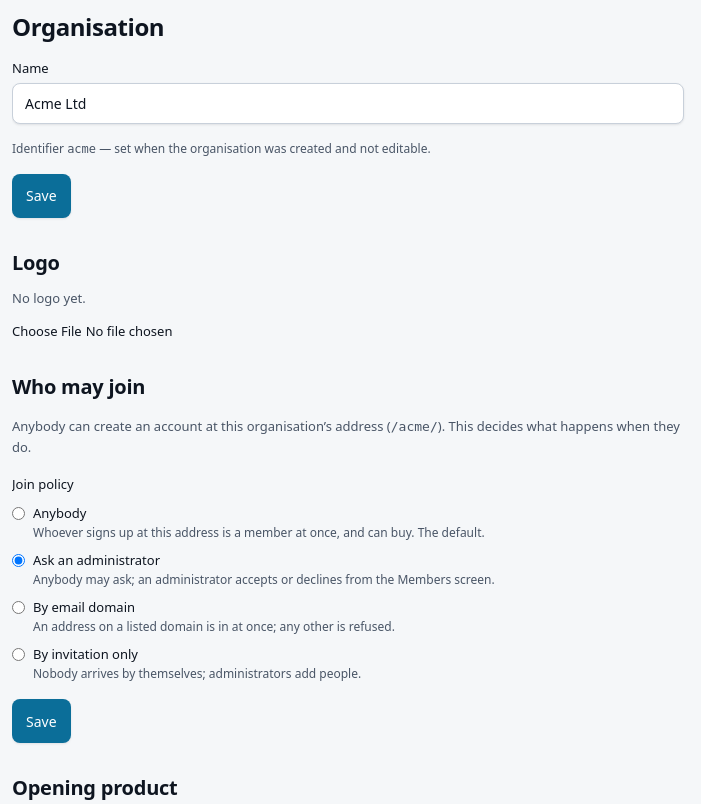
Test: who may join › shows the policy in force, with the domains only under DOMAIN
The width and height of the screenshot is (701, 804).
Expected: the element with test id "join-policy" is shown, x1=12 y1=374 x2=684 y2=743
Expected: the radio button labelled "Ask an administrator" is checked, x1=12 y1=554 x2=25 y2=567
Click the radio button labelled "By email domain" at {"x": 18, "y": 608}, box x1=12 y1=601 x2=25 y2=614
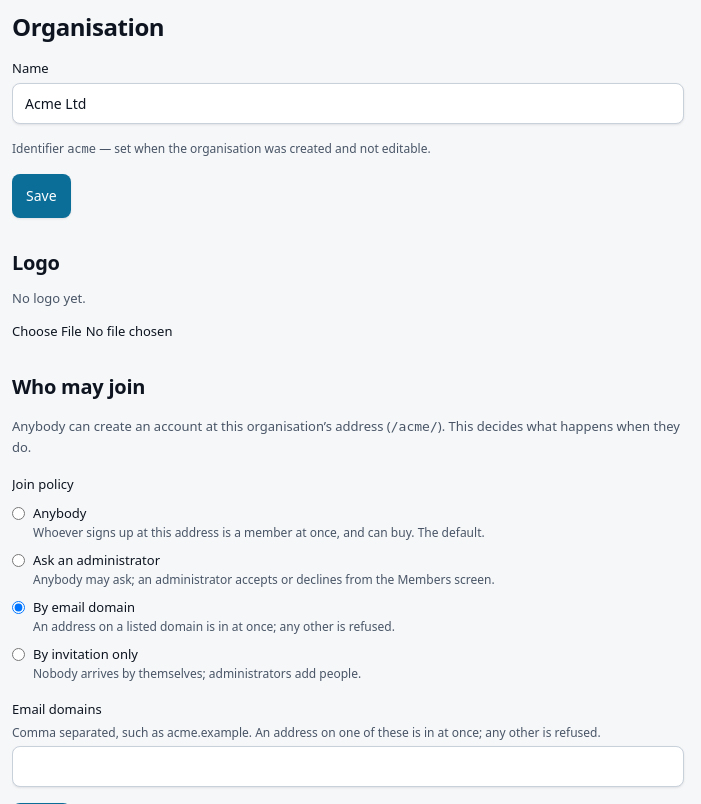
Expected: the field labelled "Email domains" is shown, x1=12 y1=746 x2=684 y2=787
